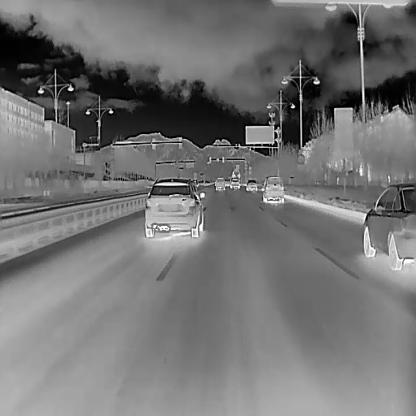car: (362, 184, 415, 270), (144, 178, 204, 237), (262, 176, 285, 202), (245, 178, 257, 191), (214, 177, 225, 190), (229, 176, 240, 188), (224, 176, 230, 187), (204, 177, 210, 185)
truck: (231, 167, 240, 178)
